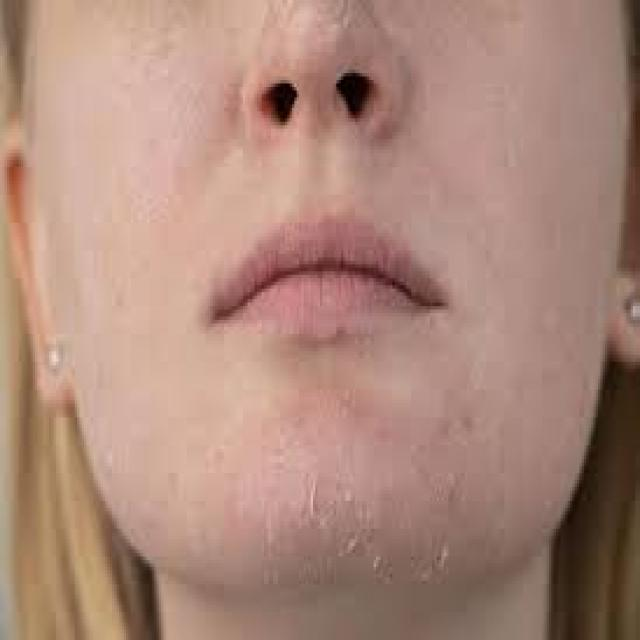Oily-Skin: (152, 464, 561, 610)
